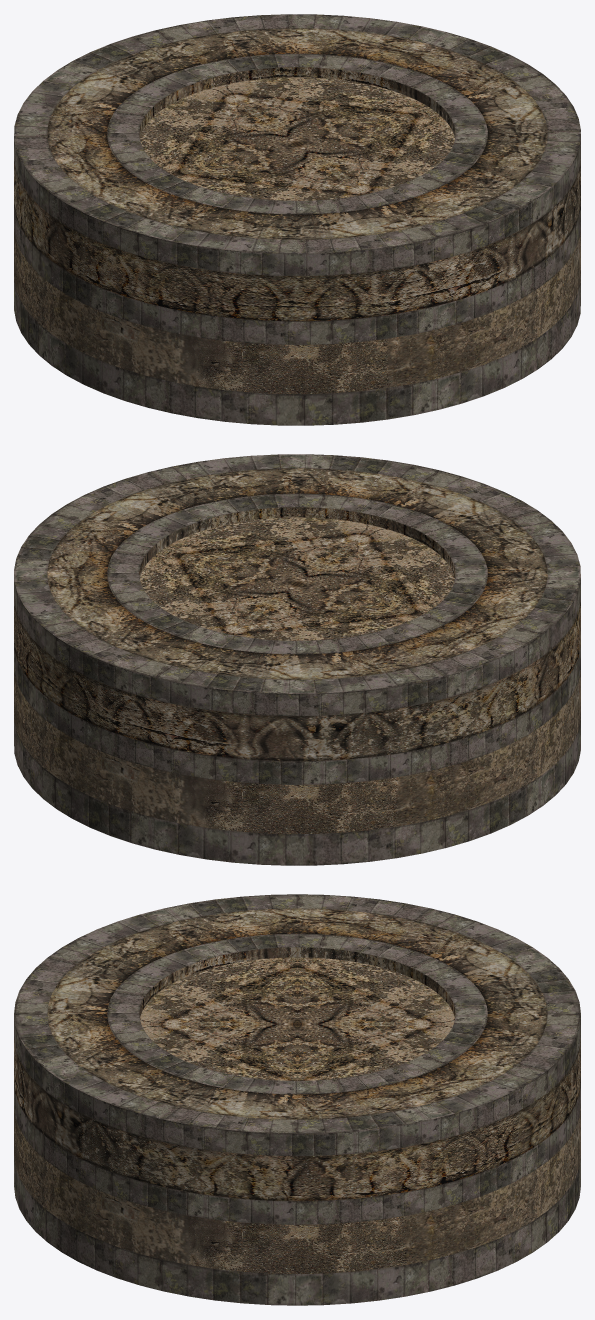
Rendered from materials_5_pillar_fat_15.fbx.
The picture shows the model from 3 angles, top to bottom: view 1: azimuth 30°, elevation 25°; view 2: azimuth 150°, elevation 25°; view 3: azimuth 270°, elevation 25°; orthographic projection.
Visible parts, largest first — view 1: materials_5_pillar_fat_15; view 2: materials_5_pillar_fat_15; view 3: materials_5_pillar_fat_15.
Boxes of the visible parts, x1,y1,x2,y2 form: materials_5_pillar_fat_15: (14, 14, 580, 425); materials_5_pillar_fat_15: (14, 454, 580, 865); materials_5_pillar_fat_15: (14, 894, 580, 1305).
Bounding box in the file's own units: 135 × 45.02 × 135.
